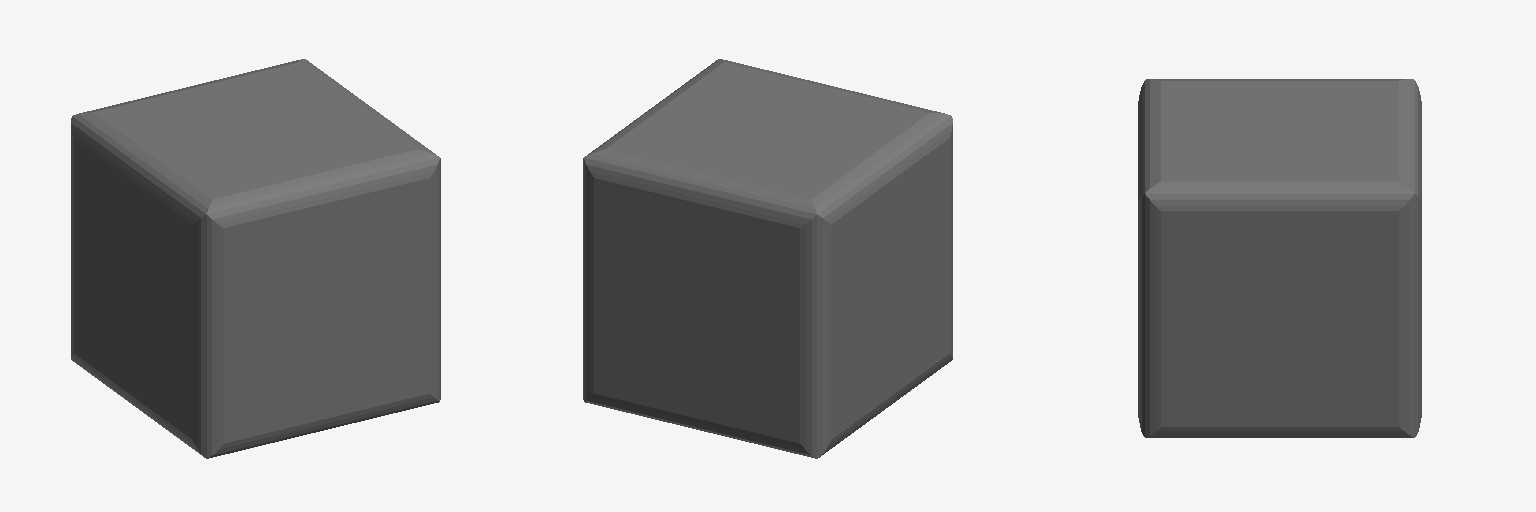
The model's file is roundbox2.obj.
3 views of the same model, side by side, from view 1: azimuth 30°, elevation 25°; view 2: azimuth 150°, elevation 25°; view 3: azimuth 270°, elevation 25° (orthographic).
Parts seen in each view (by area): view 1: box1:pCube1; view 2: box1:pCube1; view 3: box1:pCube1.
Part boxes in pixels (left/top/right/bottom): box1:pCube1: left=71, top=59, right=440, bottom=458; box1:pCube1: left=583, top=59, right=952, bottom=458; box1:pCube1: left=1138, top=79, right=1421, bottom=437.
Size of the model in its own units: 1.51 by 1.47 by 1.51.